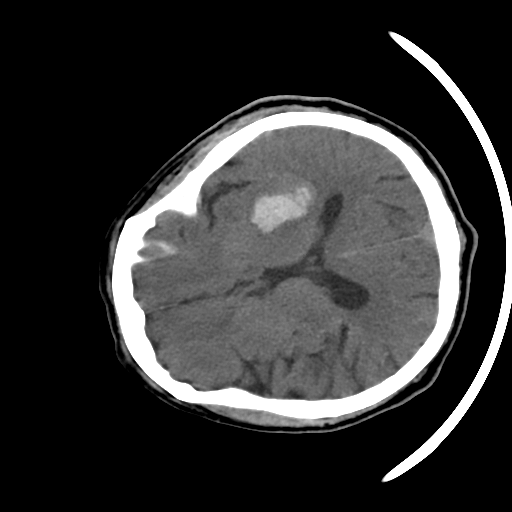a: (227, 154, 330, 257)
